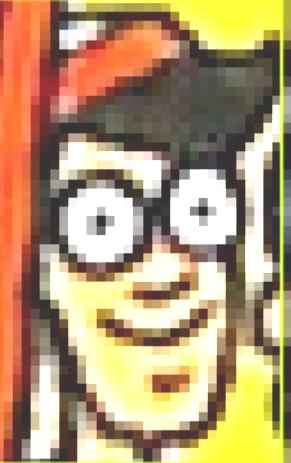waldos: (33, 10, 278, 463)
